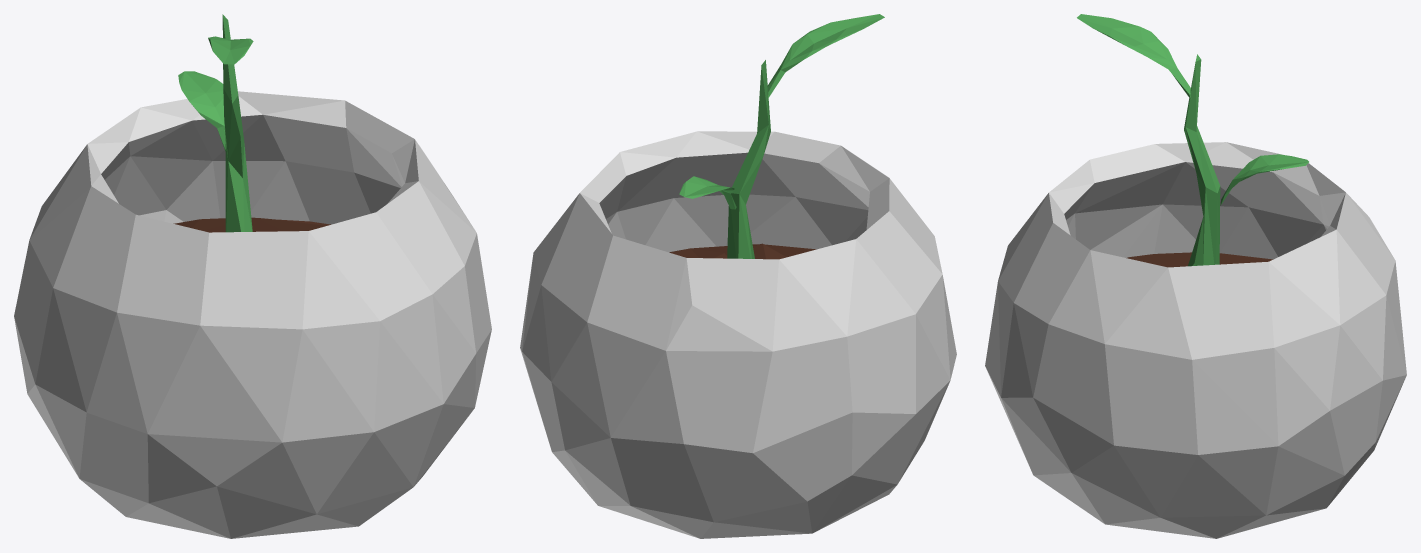
Rendered from fase3.fbx.
The picture shows the model from 3 angles, left to right: view 1: azimuth 30°, elevation 25°; view 2: azimuth 150°, elevation 25°; view 3: azimuth 270°, elevation 25°; orthographic projection. The views are drawn at different scales.
Parts seen in each view (by area): view 1: Cylinder, Plane.003, Cylinder.001; view 2: Cylinder, Plane.003, Cylinder.001; view 3: Cylinder, Plane.003, Cylinder.001.
Boxes of the visible parts, box(x1,y1,x2,y2) form: Cylinder: box(14, 91, 491, 538); Plane.003: box(178, 14, 253, 232); Cylinder.001: box(173, 217, 330, 232); Cylinder: box(520, 131, 956, 538); Plane.003: box(679, 14, 884, 258); Cylinder.001: box(669, 243, 816, 259); Cylinder: box(985, 142, 1406, 538); Plane.003: box(1077, 14, 1308, 266); Cylinder.001: box(1126, 252, 1273, 267).
Bounding box in the file's own units: 235 × 257 × 234.
